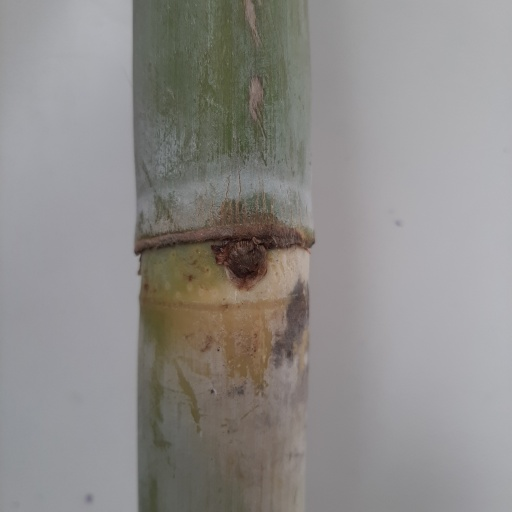Bud: (227, 241, 262, 278)
